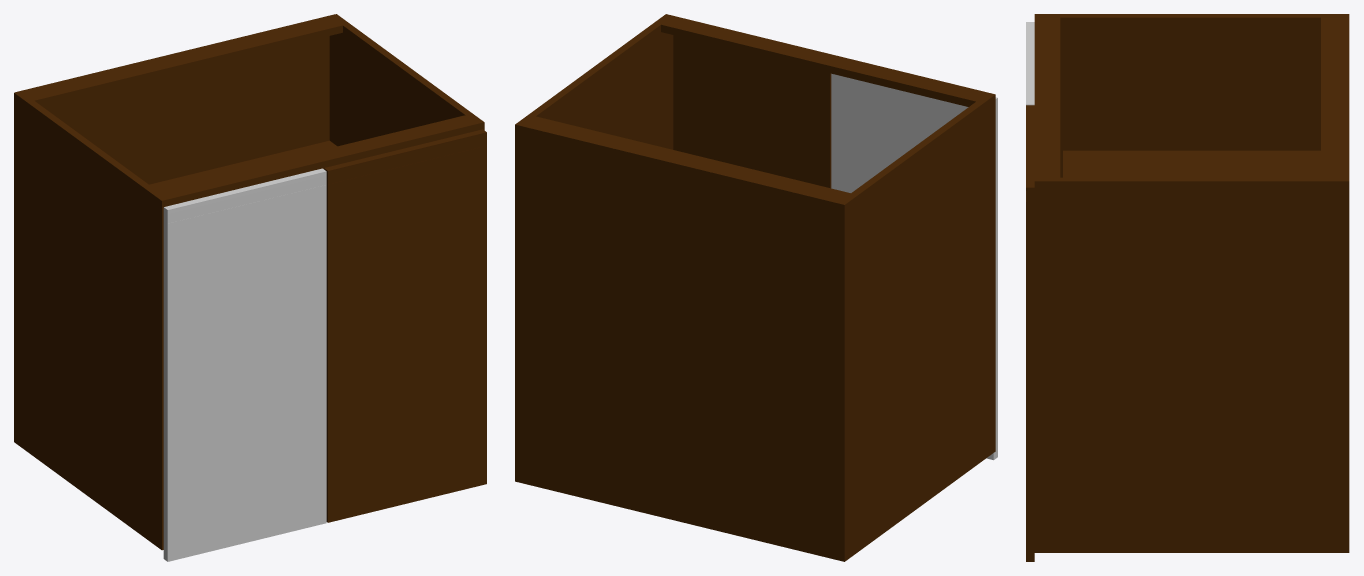
File: proyecto.glb
3 views of the same model, side by side, from view 1: azimuth 30°, elevation 25°; view 2: azimuth 150°, elevation 25°; view 3: azimuth 270°, elevation 25° (orthographic). The views are drawn at different scales.
Parts seen in each view (by area): view 1: P022, P019, P021, P016, P020, P017, P014, P015; view 2: P016, P021, P019, P020, P022, P014, P017; view 3: P020, P021, P015, P017, P014, P019, P022.
Part boxes in pixels (<box>): P022: <box>163,168,326,561</box>; P019: <box>324,129,486,522</box>; P021: <box>14,91,168,550</box>; P016: <box>17,14,334,184</box>; P020: <box>329,14,484,146</box>; P017: <box>21,16,342,105</box>; P014: <box>157,115,477,205</box>; P015: <box>149,140,336,190</box>; P016: <box>516,125,843,560</box>; P021: <box>837,92,995,561</box>; P019: <box>673,35,831,188</box>; P020: <box>515,14,673,482</box>; P022: <box>831,73,997,460</box>; P014: <box>661,15,987,106</box>; P017: <box>522,116,850,203</box>; P020: <box>1034,177,1349,552</box>; P021: <box>1034,14,1349,177</box>; P015: <box>1063,150,1320,177</box>; P017: <box>1321,17,1349,177</box>; P014: <box>1034,17,1060,177</box>; P019: <box>1026,105,1034,561</box>; P022: <box>1026,22,1034,105</box>.
Size of the model in its own units: 0.7006 by 0.7439 by 0.5723.
